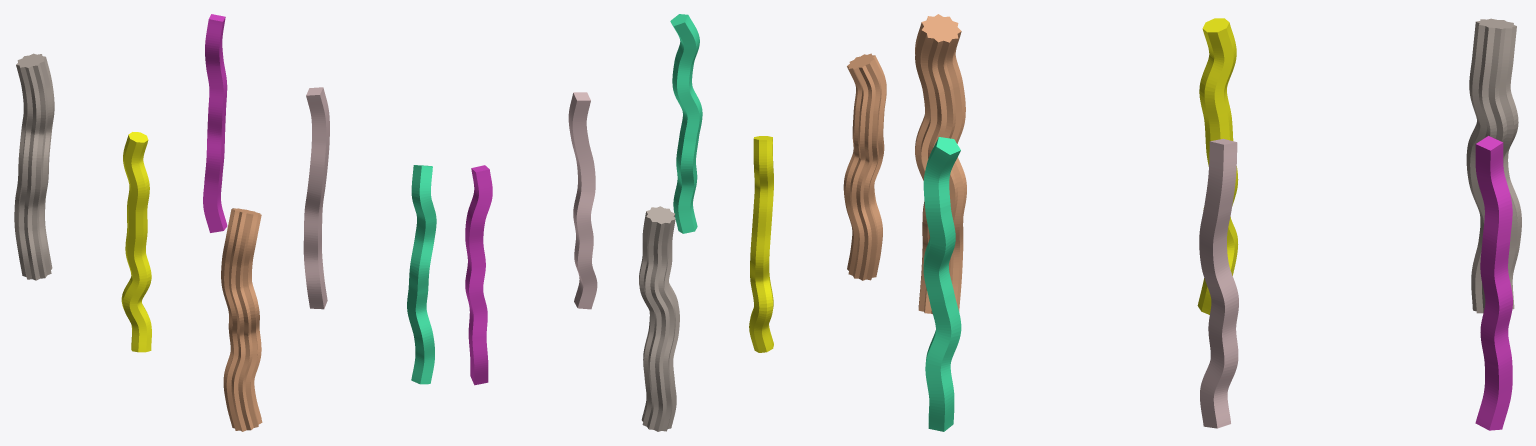
File: Phong Texturized_Opened Spline_2023-07-23-20-47-44.gltf
3 views of the same model, side by side, from view 1: azimuth 30°, elevation 25°; view 2: azimuth 150°, elevation 25°; view 3: azimuth 270°, elevation 25° (orthographic). The views are drawn at different scales.
Bounding box in the file's own units: 234 × 234 × 438.
